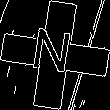N_S: (31, 27, 79, 83)
